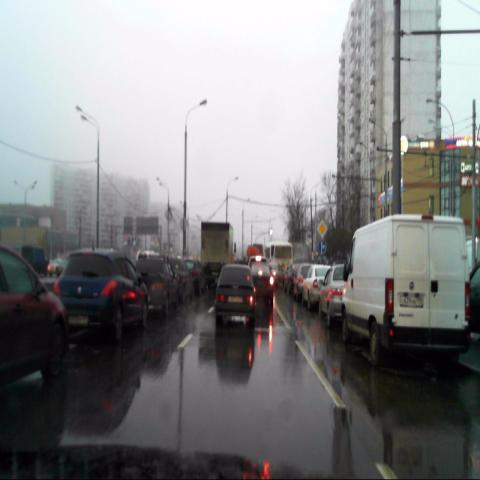2_1: (317, 219, 327, 238)
4_1_4: (318, 239, 326, 254)
